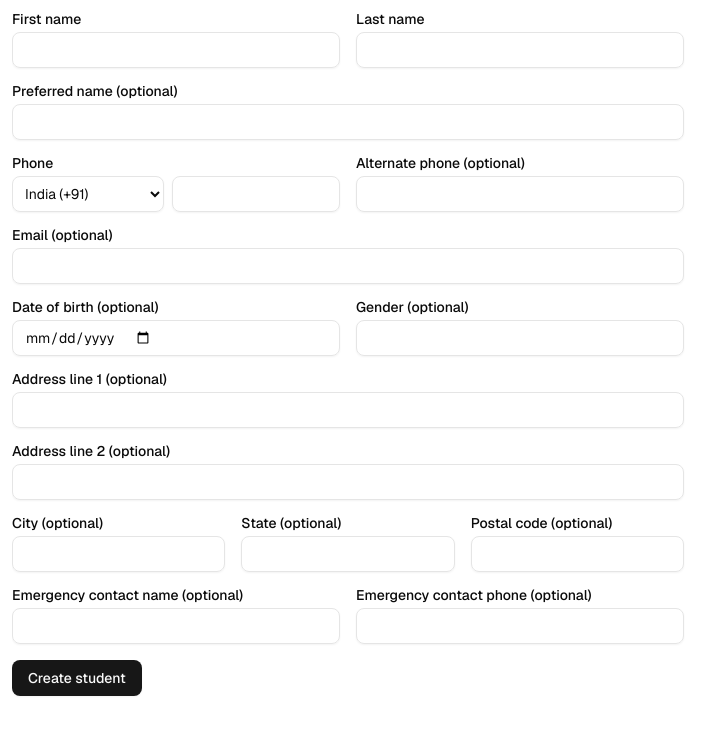
Test: StudentForm › renders a visible error when the action reports a failure — never a silent no-op
Type "Test" into the field labelled "First name" at (176, 50), box [12,32,340,68]
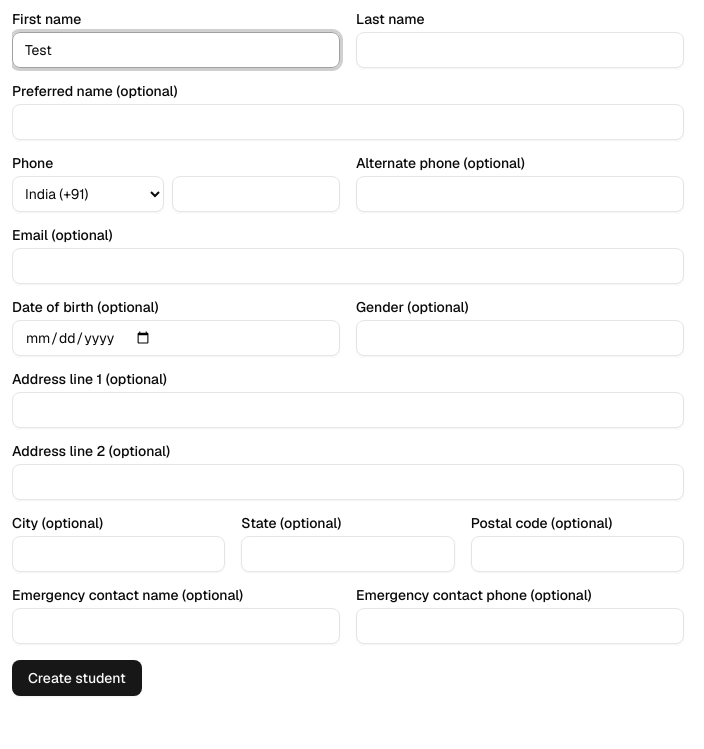
Type "Student" into the field labelled "Last name" at (520, 50), box [356,32,684,68]
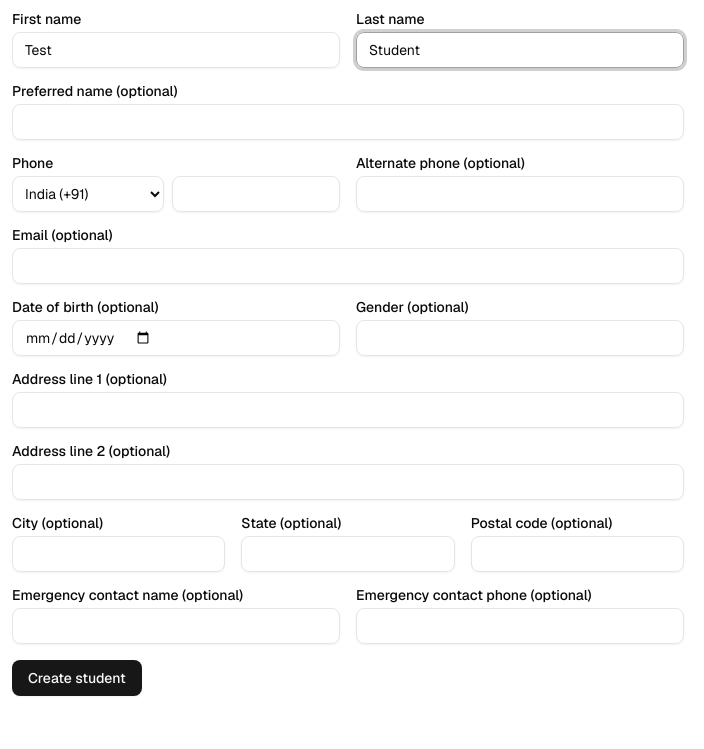
Type "9876543210" into the field labelled "Phone" at (256, 194), box [172,176,340,212]
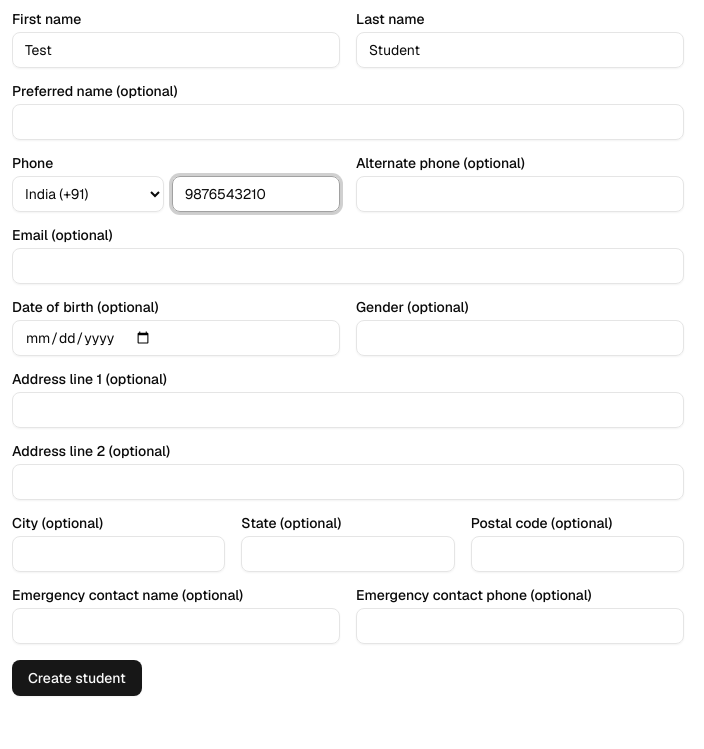
Click the button "Create student" at (77, 678), box [12,660,142,696]
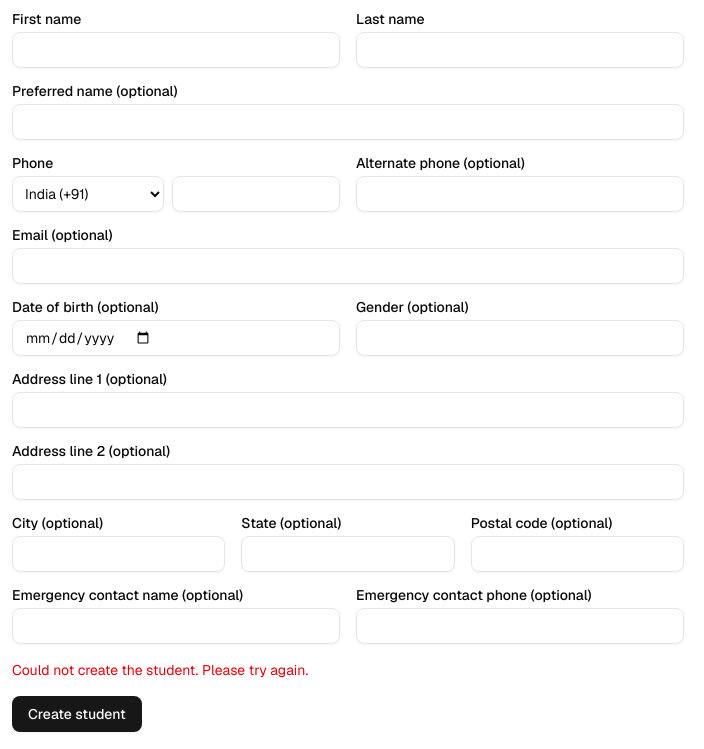
Expected: the message reads "Could not create the student. Please try again.", [12,661,308,679]
